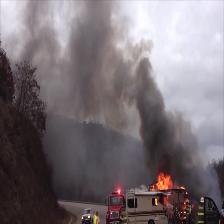fire: (154, 171, 176, 191)
smoke: (68, 28, 126, 106), (132, 74, 171, 160)
